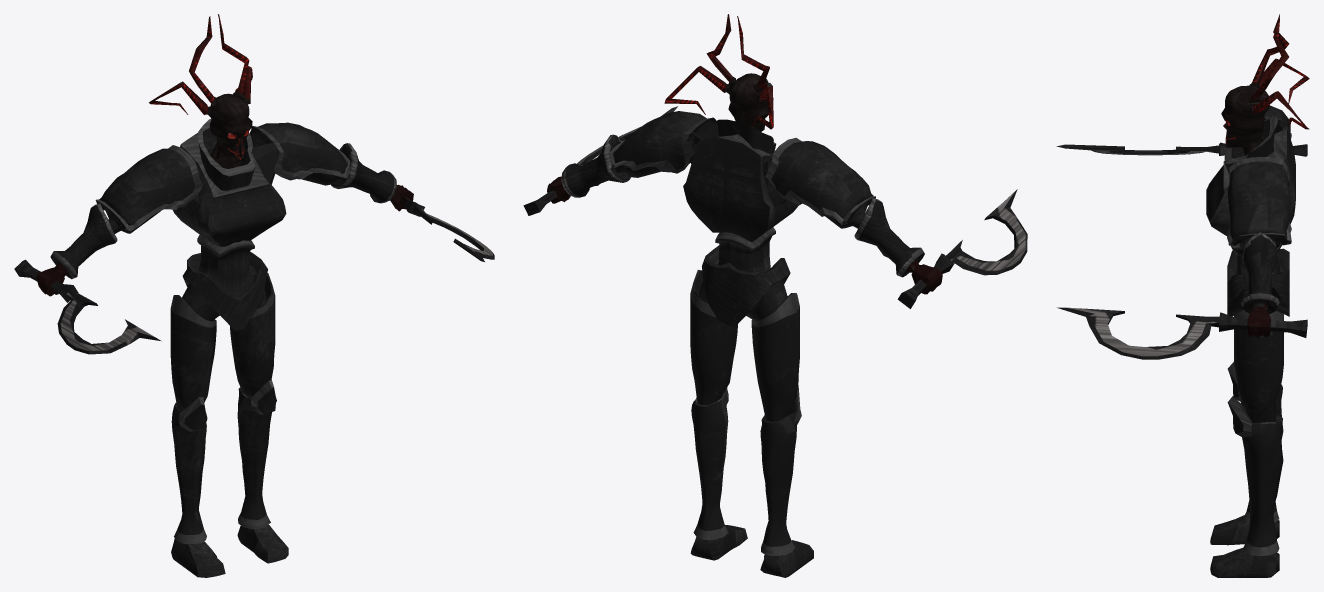
File: Badguy_texture.dae
The picture shows the model from 3 angles, left to right: view 1: azimuth 30°, elevation 25°; view 2: azimuth 150°, elevation 25°; view 3: azimuth 270°, elevation 25°; orthographic projection. The views are drawn at different scales.
Parts seen in each view (by area): view 1: weapon; view 2: weapon; view 3: weapon.
Part boxes in pixels (<box>): weapon: <box>14,14,494,577</box>; weapon: <box>523,14,1027,577</box>; weapon: <box>1056,14,1309,577</box>.
Size of the model in its own units: 104 by 127 by 53.98.
1 material, 1 textured.
